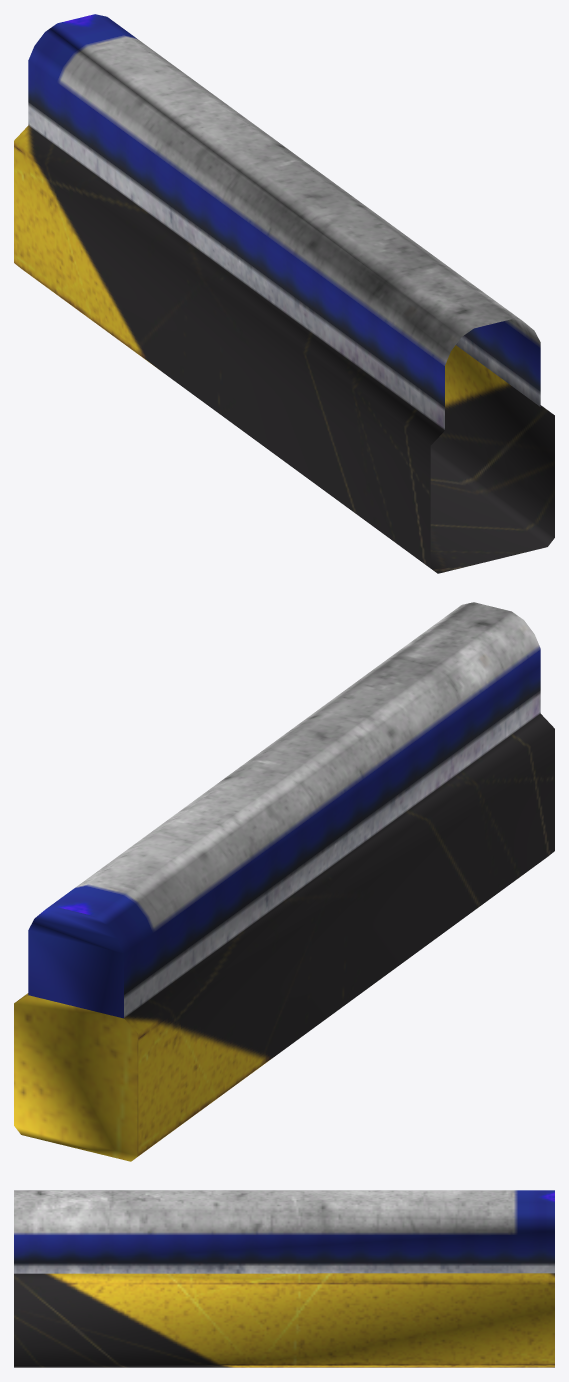
Rendered from Ob_GrindRail01_RC.fbx.
3 renders of one model, top to bottom at view 1: azimuth 30°, elevation 25°; view 2: azimuth 150°, elevation 25°; view 3: azimuth 270°, elevation 25°, orthographic. The views are drawn at different scales.
Visible parts, largest first — view 1: Ob_GrindRail01_RC; view 2: Ob_GrindRail01_RC; view 3: Ob_GrindRail01_RC.
Boxes of the visible parts, box(x1,y1,x2,y2) form: Ob_GrindRail01_RC: box(14, 14, 554, 573); Ob_GrindRail01_RC: box(14, 602, 554, 1161); Ob_GrindRail01_RC: box(14, 1190, 554, 1367).
Size of the model in its own units: 34.44 by 62.67 by 200.
